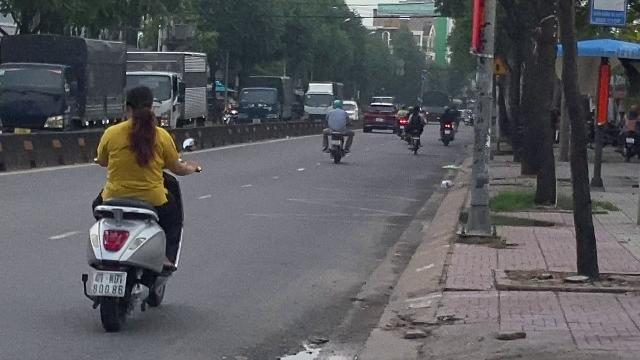licenseplate: (90, 271, 126, 295)
motorcyclist: (78, 80, 192, 332)
nohelmet: (122, 84, 156, 124)
